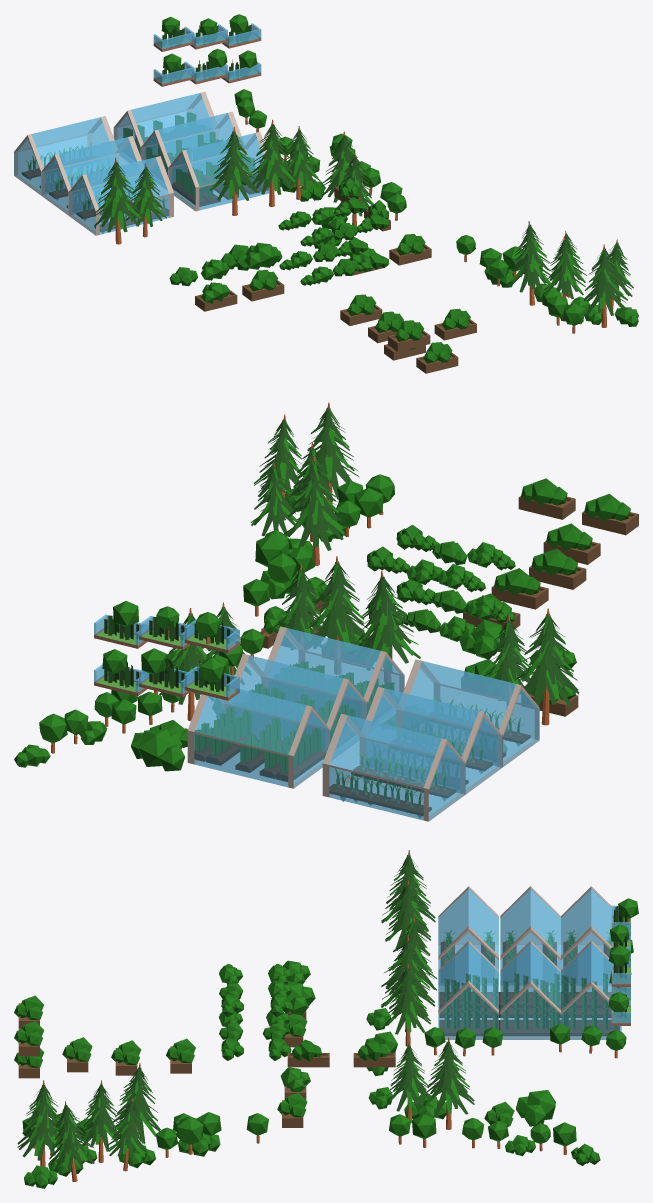
The model's file is solution_27_urban_farming.fbx.
3 renders of one model, top to bottom at view 1: azimuth 30°, elevation 25°; view 2: azimuth 150°, elevation 25°; view 3: azimuth 270°, elevation 25°, orthographic. The views are drawn at different scales.
Parts seen in each view (by area): view 1: solution_27_urban_farming; view 2: solution_27_urban_farming; view 3: solution_27_urban_farming.
Part boxes in pixels (x1,y1,x2,y2): solution_27_urban_farming: (14,14,638,373); solution_27_urban_farming: (14,402,638,821); solution_27_urban_farming: (14,850,638,1188).
Bounding box in the file's own units: 4893 × 1992 × 6160.
